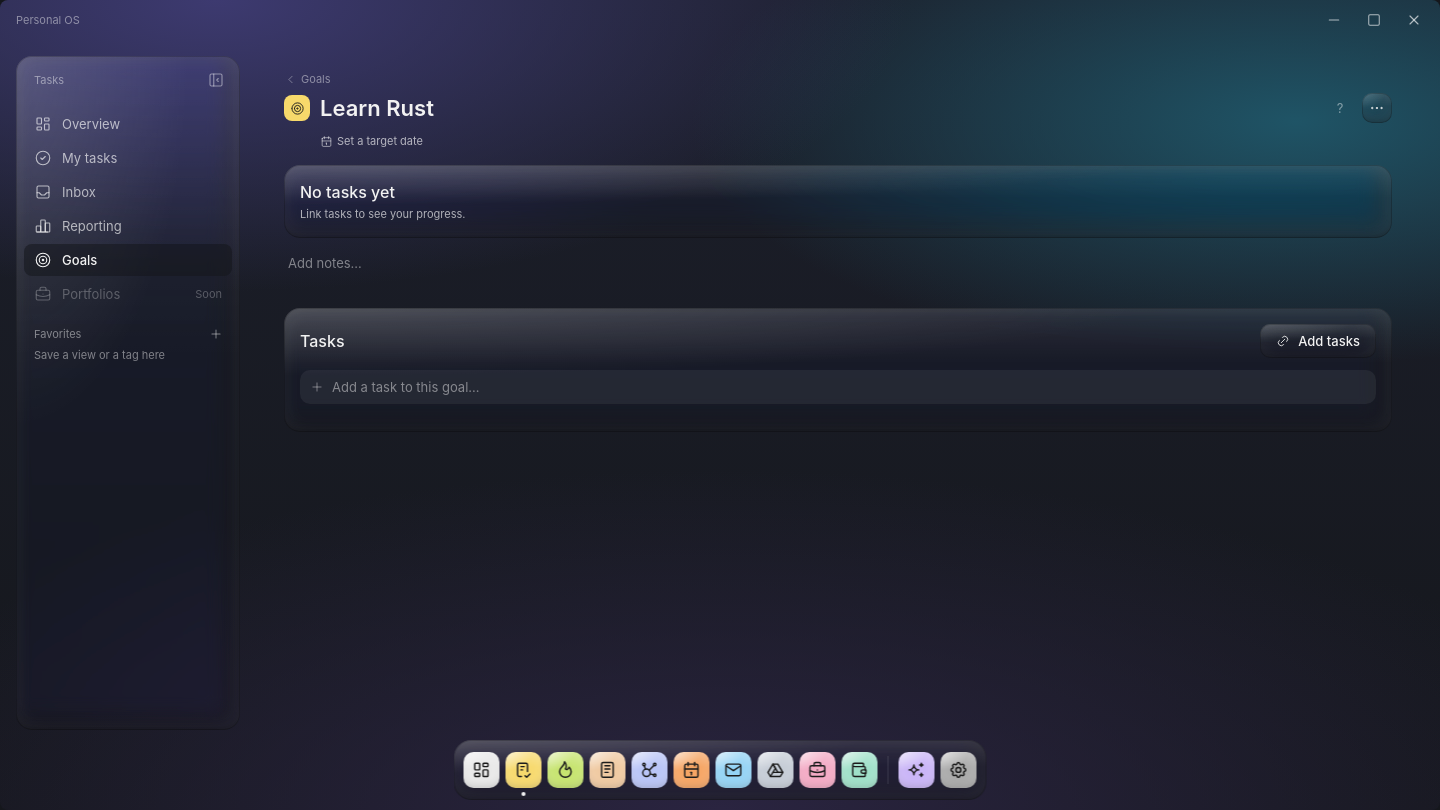
Test case: the more menu › closes with Escape and returns focus to the button
Expected: the field named "Goal title" is shown, [316,94,1318,122]
Click the button named "More" at (1377,108), box [1362,93,1392,123]
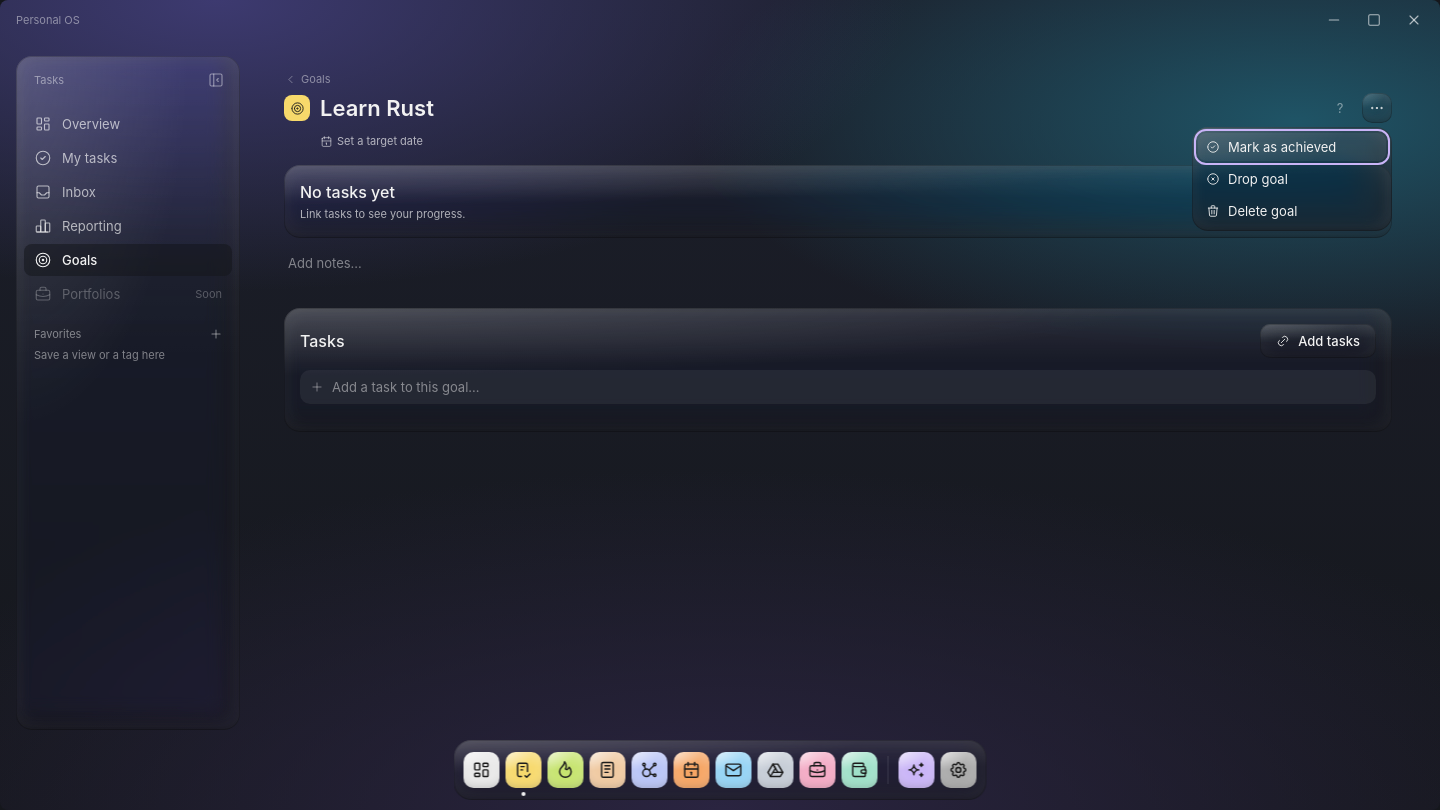
Press Escape
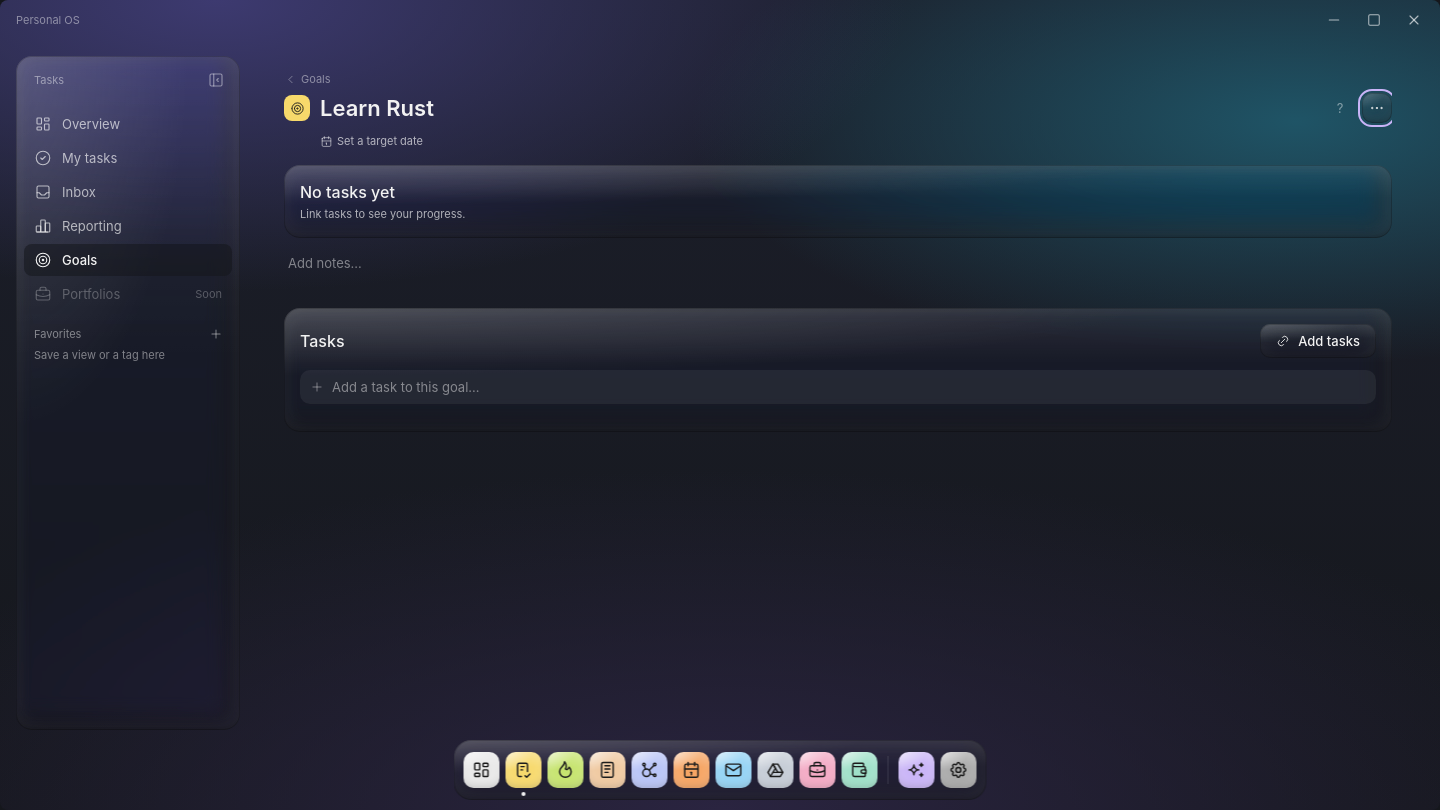
Now the menu is gone
